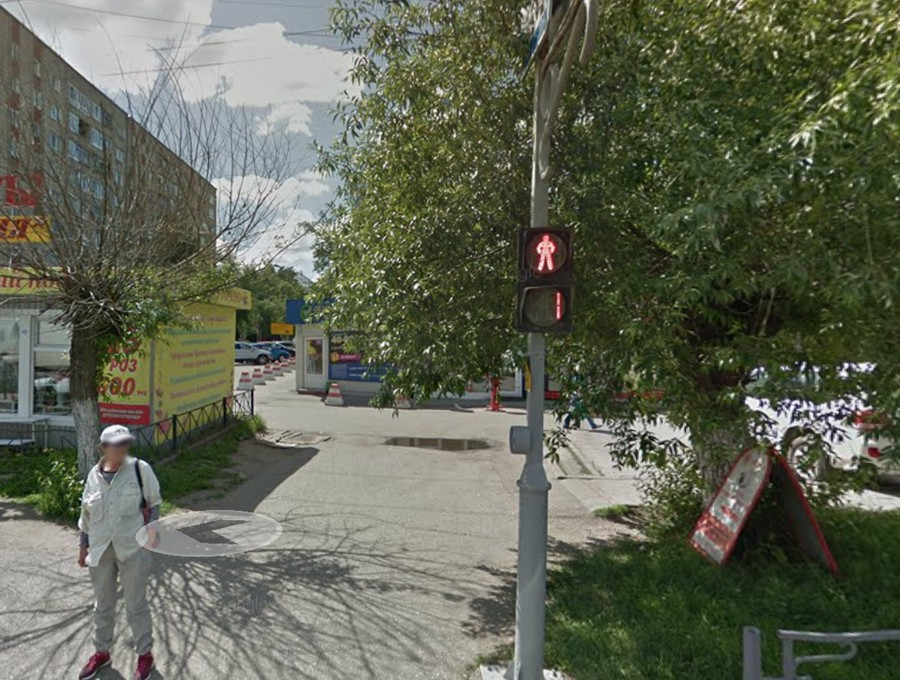Traffic Light-red: (511, 217, 576, 342)
